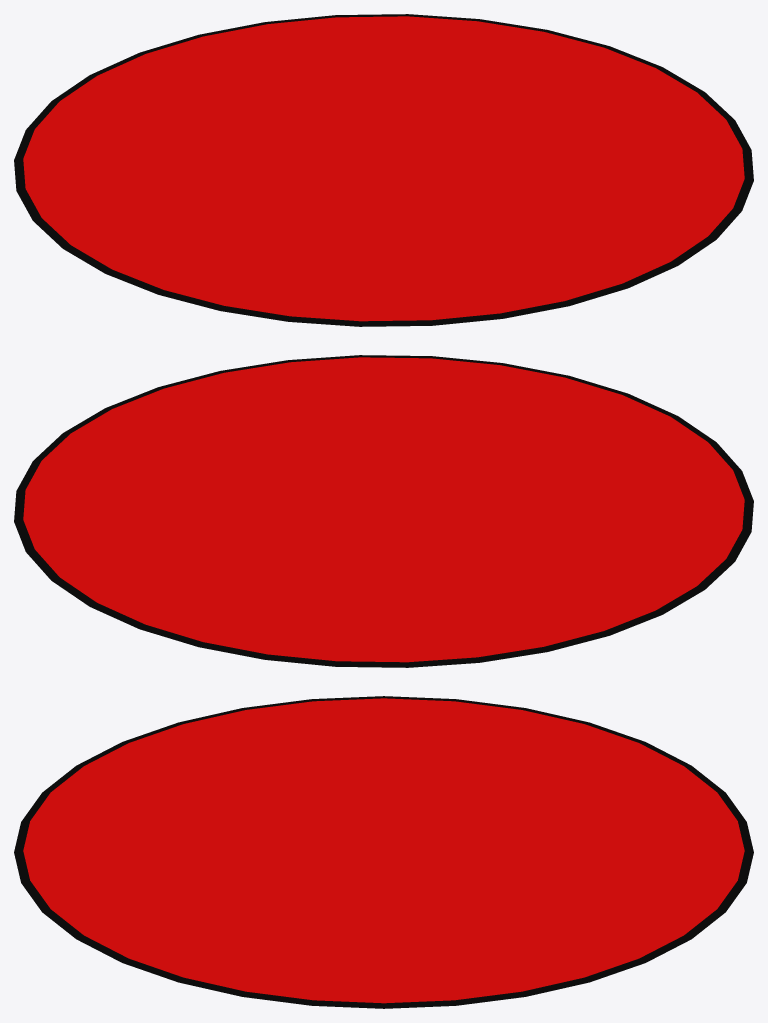
File: SkeletonAttackArc.gltf
3 views of the same model, one above another, from view 1: azimuth 30°, elevation 25°; view 2: azimuth 150°, elevation 25°; view 3: azimuth 270°, elevation 25° (orthographic).
Visible parts, largest first — view 1: 円.001, 円; view 2: 円.001, 円; view 3: 円.001, 円.
Part boxes in pixels (x1,y1,x2,y2): 円.001: (23, 16, 744, 321); 円: (14, 14, 753, 326); 円.001: (23, 357, 744, 662); 円: (14, 355, 753, 667); 円.001: (23, 698, 744, 1003); 円: (14, 696, 753, 1008).
Bounding box in the file's own units: 4 × 0.01 × 4.
